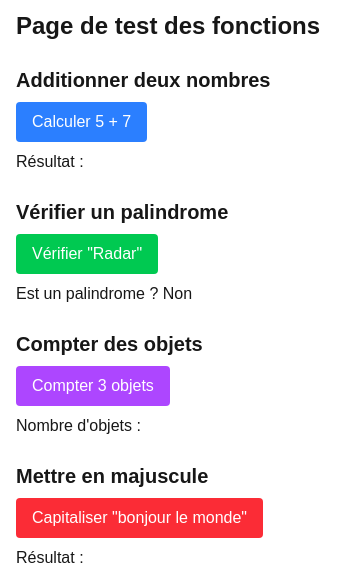
it: TestPage UI › compte 3 objets quand on clique sur le bouton
Click the button "Compter 3 objets": (93, 386) [16,366,170,406]
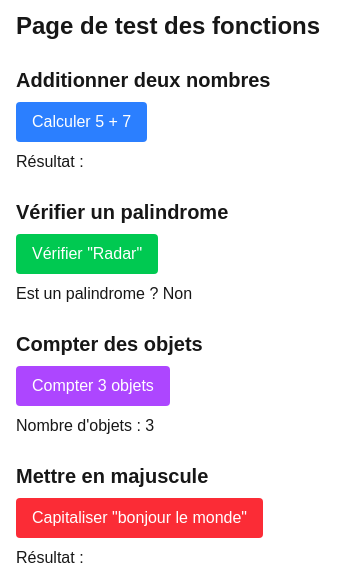
Result: the text "Nombre d'objets : 3" is shown at [16,417,154,434]
